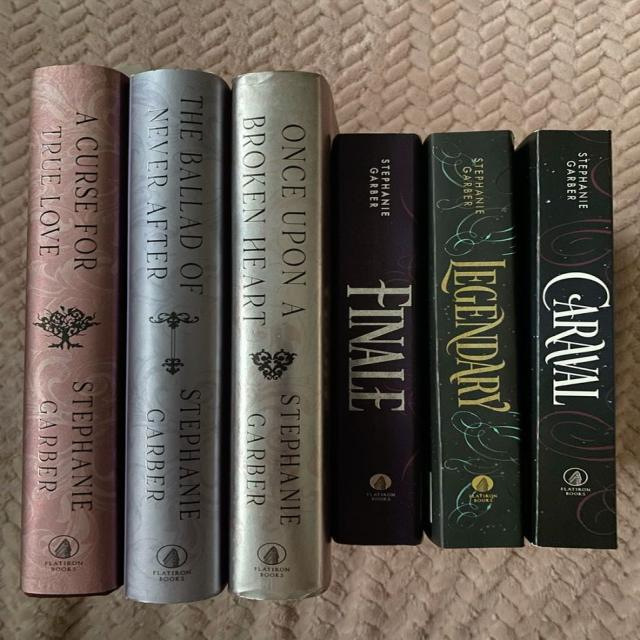book: (229, 72, 337, 600), (22, 66, 128, 596), (125, 70, 229, 603), (517, 130, 617, 549), (425, 131, 523, 548), (330, 134, 422, 545)
